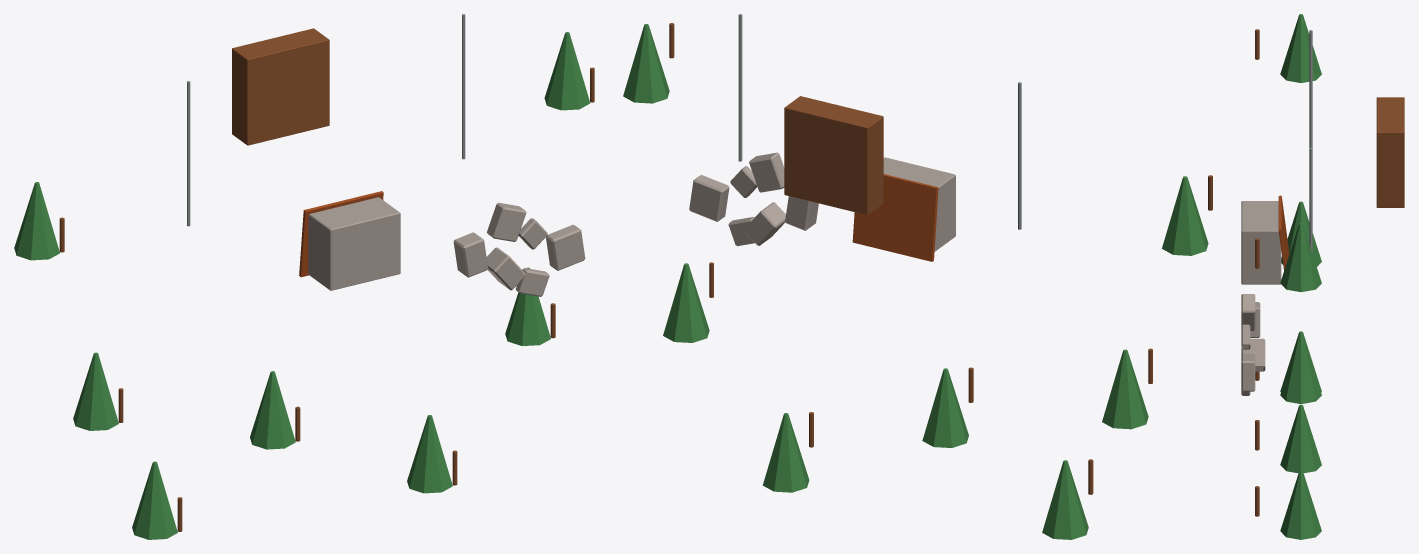
The model's file is pf_range_mountain_refuge.glb.
3 views of the same model, side by side, from view 1: azimuth 30°, elevation 25°; view 2: azimuth 150°, elevation 25°; view 3: azimuth 270°, elevation 25° (orthographic). The views are drawn at different scales.
Parts seen in each view (by area): view 1: lookout_cabin, refuge_wall, refuge_tree_canopy_0, refuge_tree_canopy_2, refuge_tree_canopy_6, refuge_tree_canopy_1, refuge_tree_canopy_5, refuge_tree_canopy_3, refuge_tree_canopy_4, rock_16_-4_5, rock_16_-4_2, rock_16_-4_1 (+3 smaller); view 2: lookout_cabin, refuge_roof, refuge_wall, refuge_tree_canopy_5, refuge_tree_canopy_0, refuge_tree_canopy_4, refuge_tree_canopy_1, refuge_tree_canopy_3, refuge_tree_canopy_2, refuge_tree_canopy_6, rock_16_-4_5, rock_16_-4_1 (+3 smaller); view 3: lookout_cabin, refuge_wall, refuge_tree_canopy_4, refuge_tree_canopy_2, refuge_tree_canopy_6, refuge_tree_canopy_3, refuge_tree_canopy_5, refuge_tree_canopy_0, rock_16_-4_5, rock_16_-4_1, refuge_roof, rock_16_-4_3 (+4 smaller).
Part boxes in pixels (<box>): lookout_cabin: <box>232,28,329,145</box>; refuge_wall: <box>308,197,400,290</box>; refuge_tree_canopy_0: <box>73,352,118,430</box>; refuge_tree_canopy_2: <box>250,371,295,449</box>; refuge_tree_canopy_6: <box>544,32,590,110</box>; refuge_tree_canopy_1: <box>132,461,177,539</box>; refuge_tree_canopy_5: <box>14,182,59,260</box>; refuge_tree_canopy_3: <box>407,415,452,493</box>; refuge_tree_canopy_4: <box>505,267,550,345</box>; rock_16_-4_5: <box>546,224,585,270</box>; rock_16_-4_2: <box>453,232,487,277</box>; rock_16_-4_1: <box>487,202,526,241</box>; lookout_cabin: <box>784,96,883,215</box>; refuge_roof: <box>852,174,938,261</box>; refuge_wall: <box>883,157,955,251</box>; refuge_tree_canopy_5: <box>1162,176,1208,255</box>; refuge_tree_canopy_0: <box>1102,349,1148,429</box>; refuge_tree_canopy_4: <box>663,263,709,342</box>; refuge_tree_canopy_1: <box>1042,460,1088,539</box>; refuge_tree_canopy_3: <box>762,413,809,492</box>; refuge_tree_canopy_2: <box>922,368,968,447</box>; refuge_tree_canopy_6: <box>623,24,669,103</box>; rock_16_-4_5: <box>689,175,729,221</box>; rock_16_-4_1: <box>749,152,784,192</box>; lookout_cabin: <box>1376,97,1404,207</box>; refuge_wall: <box>1241,201,1281,284</box>; refuge_tree_canopy_4: <box>1280,404,1321,473</box>; refuge_tree_canopy_2: <box>1280,331,1321,400</box>; refuge_tree_canopy_6: <box>1280,223,1321,292</box>; refuge_tree_canopy_3: <box>1280,473,1321,539</box>; refuge_tree_canopy_5: <box>1280,14,1321,82</box>; refuge_tree_canopy_0: <box>1281,201,1321,266</box>; rock_16_-4_5: <box>1241,353,1255,391</box>; rock_16_-4_1: <box>1241,294,1255,330</box>; refuge_roof: <box>1278,195,1289,270</box>; rock_16_-4_3: <box>1241,338,1265,371</box>.
Size of the model in its own units: 58.2 by 44.3 by 16.4.
